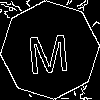M: (25, 25, 71, 75)
